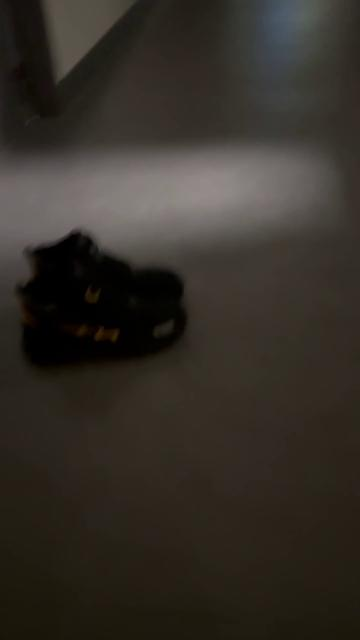shoe_worn: (19, 278, 184, 368), (22, 226, 184, 301)
